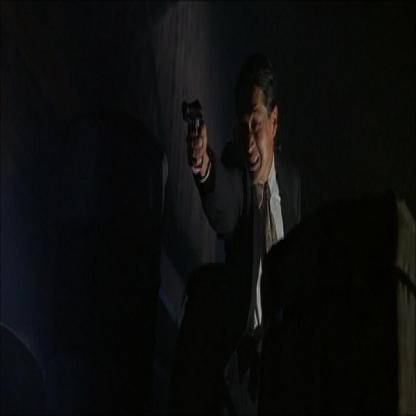Guns: (180, 95, 204, 173)
